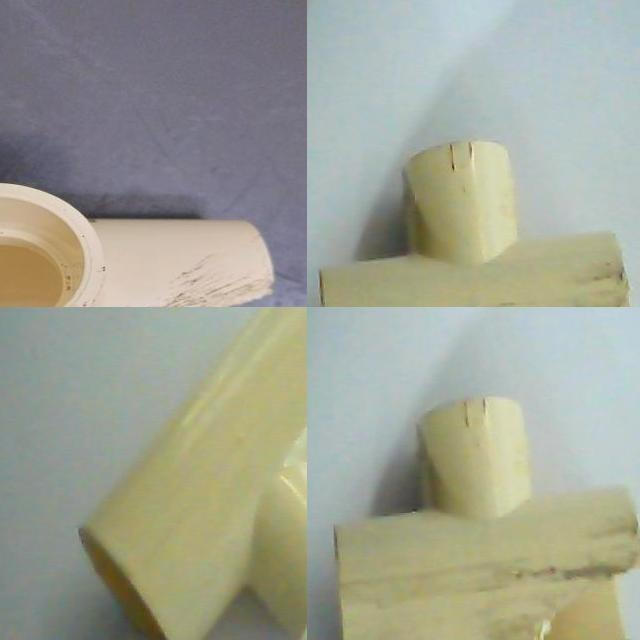Defective: (112, 251, 296, 307), (532, 557, 640, 640), (152, 285, 268, 307)
T Joint: (77, 307, 307, 640), (333, 399, 640, 640), (318, 141, 631, 307), (0, 187, 275, 307)
